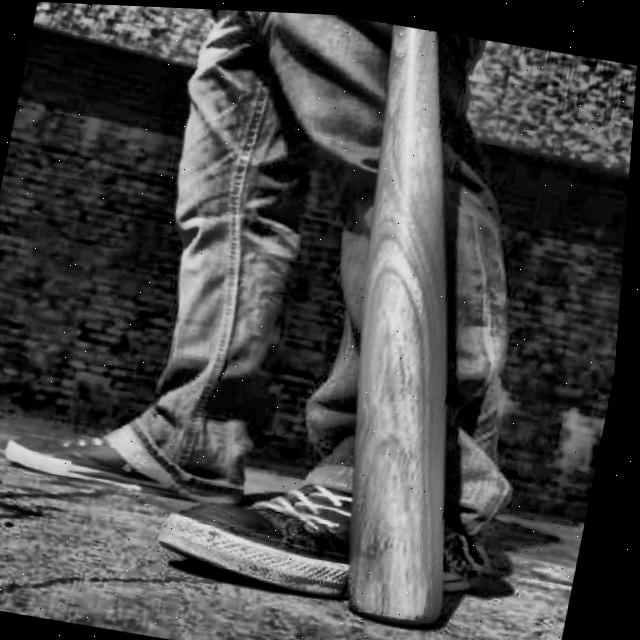tongkat pemukul: (325, 20, 460, 631)
